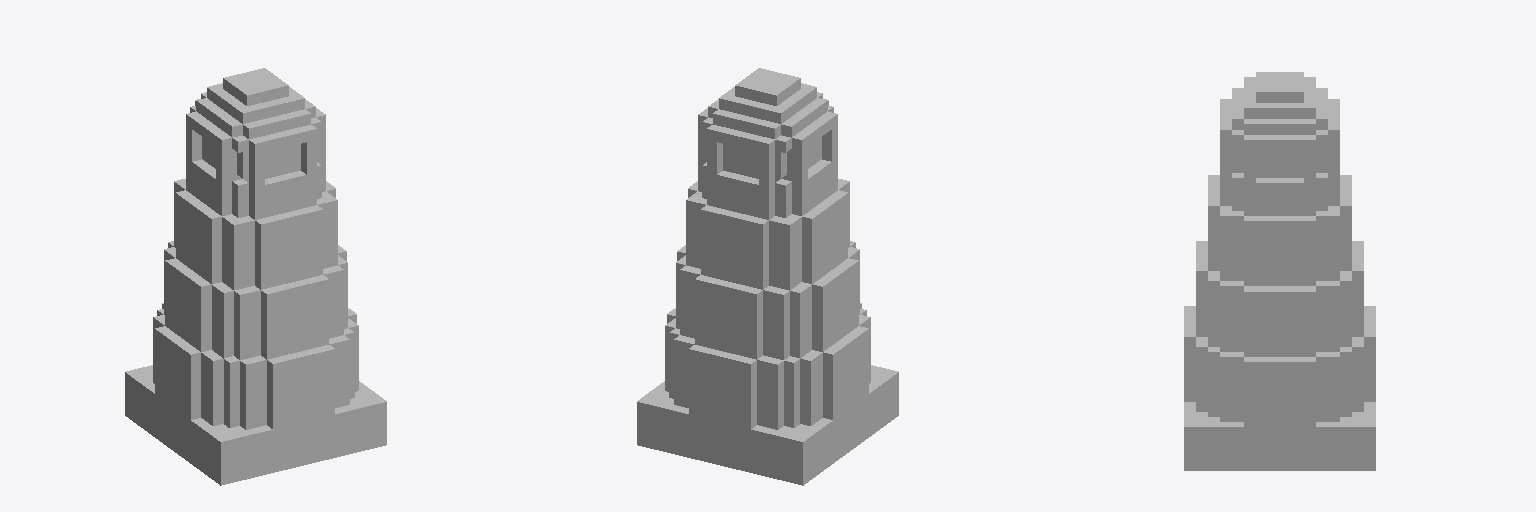
The model's file is lighthouse.obj.
3 renders of one model, left to right at view 1: azimuth 30°, elevation 25°; view 2: azimuth 150°, elevation 25°; view 3: azimuth 270°, elevation 25°, orthographic.
Parts seen in each view (by area): view 1: object 1; view 2: object 1; view 3: object 1.
Part boxes in pixels (x1,y1,x2,y2): object 1: (125,68,386,485); object 1: (637,68,898,485); object 1: (1184,72,1375,470).
Bounding box in the file's own units: 1.6 × 3.2 × 1.6.